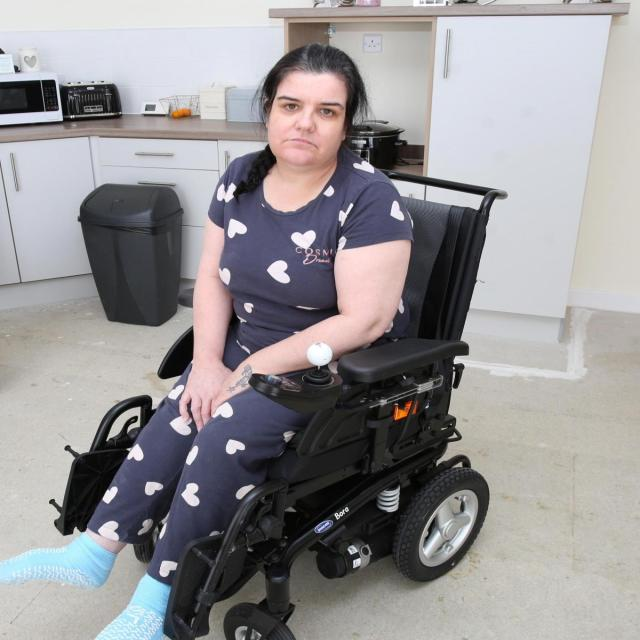wheelchairs: (44, 162, 514, 630)
